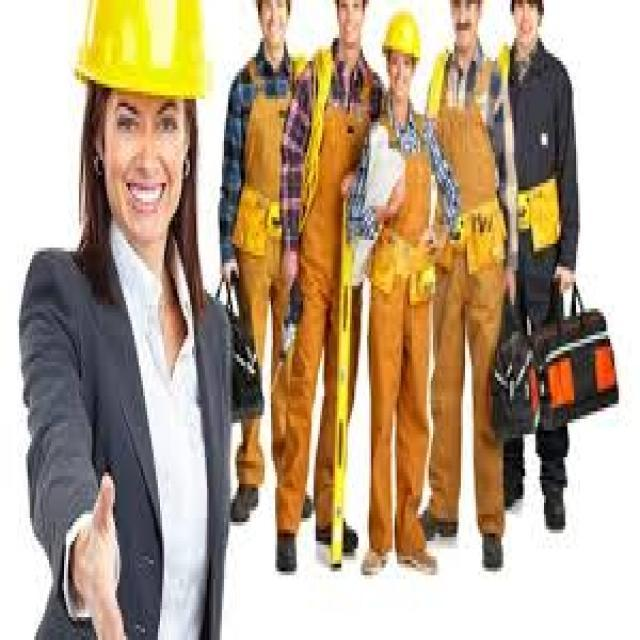safetyhelmet: (62, 0, 222, 165), (384, 8, 428, 94)
